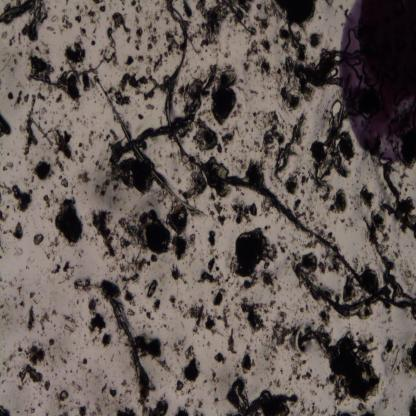Air bubble: (330, 98, 342, 116), (328, 69, 338, 79), (334, 54, 342, 62)
Background material: (275, 47, 342, 108), (329, 331, 381, 401), (269, 2, 315, 63), (228, 226, 279, 280), (197, 0, 250, 48), (210, 66, 237, 126), (138, 210, 172, 256), (109, 161, 154, 193), (54, 198, 84, 245), (90, 209, 117, 261), (252, 108, 285, 147), (293, 325, 334, 356), (24, 51, 53, 90), (115, 255, 150, 285), (21, 93, 37, 157), (240, 299, 267, 336), (105, 12, 132, 49), (56, 64, 81, 103), (28, 115, 54, 147), (198, 256, 224, 287), (195, 117, 218, 150), (89, 46, 118, 72), (372, 379, 394, 413), (182, 172, 208, 200), (136, 334, 162, 361), (312, 207, 332, 242), (118, 217, 139, 250), (167, 205, 189, 236), (54, 128, 74, 161), (290, 353, 314, 380), (10, 185, 33, 213), (379, 230, 402, 258), (40, 239, 69, 261), (116, 72, 151, 90), (103, 388, 136, 407), (63, 41, 88, 66), (162, 30, 184, 58), (231, 202, 258, 224), (137, 368, 153, 405), (186, 305, 206, 334), (1, 25, 25, 49), (255, 194, 278, 219), (318, 252, 342, 275), (271, 322, 293, 347), (262, 344, 278, 378), (248, 158, 268, 185), (399, 343, 416, 374), (194, 44, 220, 64), (18, 368, 44, 388), (297, 284, 312, 316), (141, 398, 170, 414), (208, 156, 228, 179), (32, 161, 56, 180), (172, 236, 190, 261), (299, 399, 329, 414), (292, 196, 310, 221), (330, 189, 348, 214), (235, 78, 251, 106), (205, 315, 224, 338), (27, 35, 51, 53), (182, 357, 199, 382), (241, 345, 255, 375), (360, 182, 375, 210), (7, 51, 25, 74), (170, 262, 188, 285), (256, 54, 272, 79), (310, 371, 330, 391), (0, 180, 9, 223), (210, 202, 226, 226), (26, 344, 46, 363), (343, 274, 357, 301), (4, 90, 29, 105), (226, 157, 248, 174), (146, 22, 159, 50), (236, 136, 254, 156), (87, 314, 107, 332), (400, 267, 416, 289), (226, 327, 239, 354), (168, 296, 186, 315), (220, 129, 238, 148), (74, 277, 94, 294), (274, 300, 290, 321), (83, 4, 99, 25), (284, 173, 300, 194), (379, 312, 394, 334), (387, 358, 400, 383), (252, 14, 270, 32), (54, 390, 69, 411), (211, 288, 227, 307), (331, 404, 356, 416), (67, 99, 88, 113), (95, 180, 111, 198), (261, 270, 275, 290), (114, 91, 132, 106), (62, 314, 77, 332), (15, 154, 34, 168), (0, 114, 12, 136), (82, 235, 102, 248), (237, 116, 250, 136), (184, 379, 200, 395), (59, 13, 74, 30), (172, 338, 186, 356), (383, 337, 395, 358), (319, 304, 332, 323), (114, 405, 136, 416), (124, 289, 136, 309), (247, 42, 260, 60), (309, 30, 322, 48), (146, 280, 159, 298), (56, 116, 74, 129), (39, 310, 50, 331), (221, 44, 233, 63), (108, 194, 123, 209), (27, 304, 35, 332), (243, 276, 259, 290), (76, 171, 93, 184), (134, 29, 144, 51), (63, 260, 74, 280), (84, 130, 94, 152), (45, 346, 55, 367), (285, 252, 300, 266), (81, 72, 91, 93), (72, 5, 83, 24), (92, 0, 108, 13), (171, 167, 183, 184), (222, 305, 230, 330), (395, 383, 405, 403), (277, 235, 288, 253), (183, 1, 194, 19), (87, 297, 98, 315), (2, 354, 13, 372), (358, 404, 374, 416), (260, 38, 272, 54), (76, 112, 88, 128), (174, 404, 190, 416), (407, 394, 416, 415), (13, 223, 24, 240), (340, 217, 356, 228), (154, 54, 163, 73), (160, 315, 170, 332), (54, 156, 64, 173), (131, 0, 143, 14), (90, 402, 102, 416), (231, 106, 245, 118), (49, 262, 61, 276), (83, 213, 94, 228), (0, 277, 15, 288), (184, 344, 194, 360), (38, 105, 48, 121), (2, 160, 14, 173), (0, 313, 12, 326), (306, 236, 317, 250), (0, 401, 11, 415), (58, 174, 69, 188), (268, 378, 282, 389), (101, 334, 112, 348), (96, 132, 111, 142), (42, 194, 52, 209), (210, 368, 219, 384), (153, 10, 165, 22), (214, 353, 227, 364), (284, 375, 294, 389), (96, 160, 106, 174), (267, 286, 281, 296), (208, 231, 216, 248), (153, 297, 161, 314), (11, 292, 19, 309), (90, 333, 99, 348), (77, 26, 88, 38), (71, 381, 83, 392), (83, 366, 94, 378), (104, 264, 117, 274), (266, 298, 276, 311), (25, 255, 33, 271), (80, 356, 89, 370), (77, 404, 88, 415), (124, 56, 134, 68), (109, 130, 119, 142), (174, 380, 184, 392), (145, 310, 155, 322), (242, 61, 252, 73), (190, 233, 197, 250), (251, 85, 260, 98), (79, 152, 87, 166), (233, 362, 240, 378), (34, 234, 44, 245), (37, 91, 47, 102), (183, 398, 194, 408), (108, 388, 118, 398), (24, 405, 35, 414), (44, 379, 51, 393), (196, 396, 203, 410), (61, 349, 75, 356), (90, 26, 98, 38), (0, 239, 4, 263), (0, 300, 8, 312), (48, 336, 56, 348), (146, 53, 153, 66), (19, 316, 28, 326), (46, 24, 55, 34), (13, 247, 21, 258), (208, 191, 216, 202), (150, 253, 158, 264), (100, 369, 108, 380), (216, 143, 223, 155), (214, 391, 220, 405), (100, 383, 108, 393), (60, 356, 68, 366), (14, 382, 22, 392), (76, 248, 83, 259), (69, 185, 76, 196), (127, 310, 136, 318), (145, 104, 156, 110), (17, 345, 23, 356), (136, 56, 145, 63), (121, 379, 128, 388), (51, 13, 58, 22), (51, 308, 57, 318), (3, 229, 13, 235), (138, 113, 145, 121), (32, 298, 39, 306), (29, 292, 36, 300), (17, 285, 22, 296), (146, 67, 152, 76), (279, 366, 284, 376), (256, 3, 262, 11), (198, 297, 204, 305), (19, 300, 25, 308), (90, 39, 96, 47), (78, 141, 84, 149), (204, 340, 212, 346), (74, 149, 79, 157), (44, 410, 50, 416), (36, 400, 42, 406), (46, 394, 53, 399), (70, 406, 77, 411), (66, 0, 71, 6), (203, 379, 208, 385), (91, 118, 95, 125), (0, 380, 6, 384), (100, 93, 104, 99), (84, 188, 87, 196), (75, 400, 79, 405), (17, 409, 20, 414)
Cellulose filter fibre: (109, 66, 212, 165), (78, 285, 144, 383), (291, 262, 391, 312), (362, 209, 416, 301), (309, 110, 355, 198), (224, 378, 298, 415), (380, 162, 414, 233), (274, 109, 307, 180), (0, 0, 47, 39)
Hair: (95, 78, 204, 216)
Microfibre: (163, 1, 416, 318)
Pen: (341, 0, 416, 166)
